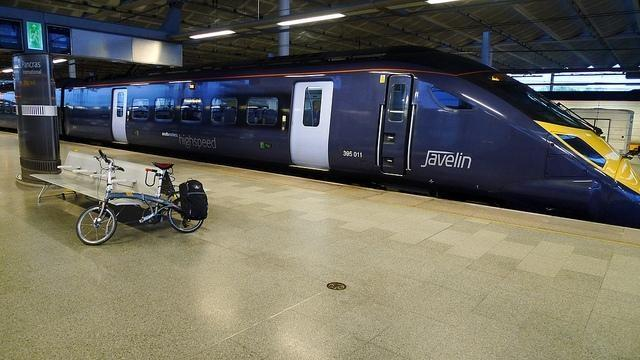bicycle: (76, 149, 206, 246)
